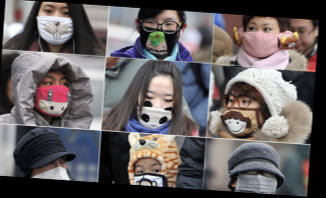with_mask: (33, 3, 74, 45), (138, 14, 180, 55), (221, 90, 261, 133), (34, 72, 72, 117), (135, 87, 175, 125), (243, 21, 279, 58), (232, 169, 278, 193), (32, 154, 67, 179), (133, 159, 165, 185)
